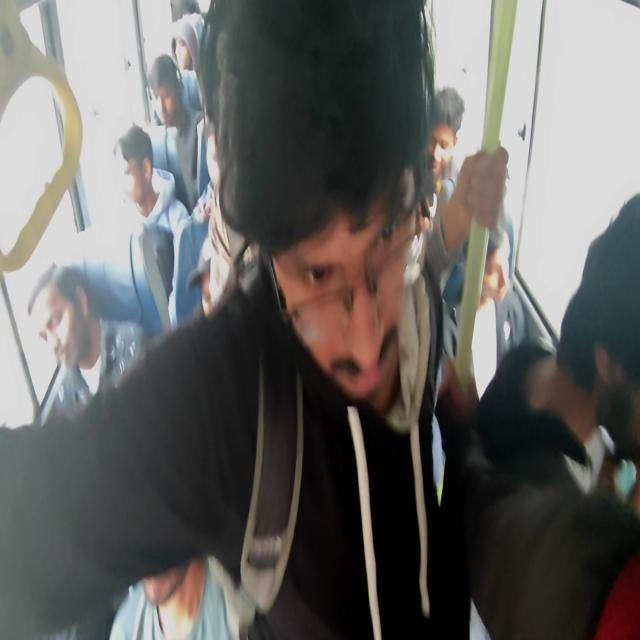person: (1, 1, 507, 638), (454, 191, 639, 638), (115, 123, 191, 326), (37, 263, 108, 413), (147, 53, 206, 211)
